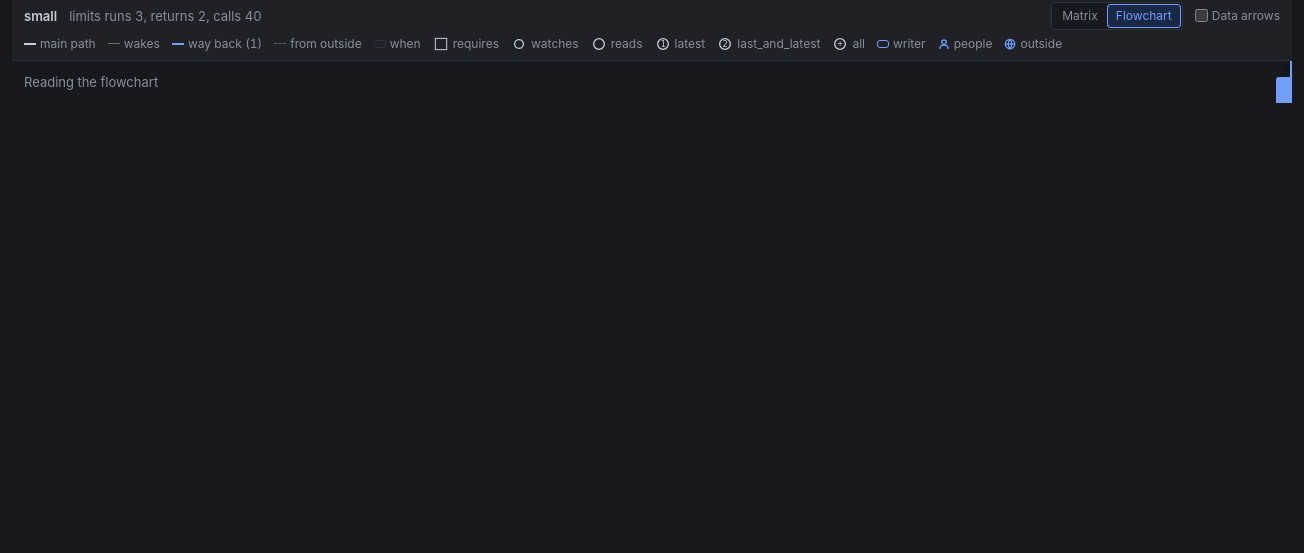
the chart › shows one row for each datum, the cells across in the order of the walk, and what each cell does with each by its keys
Click the button "Matrix" at (1080, 16), box [1054,5,1106,27]
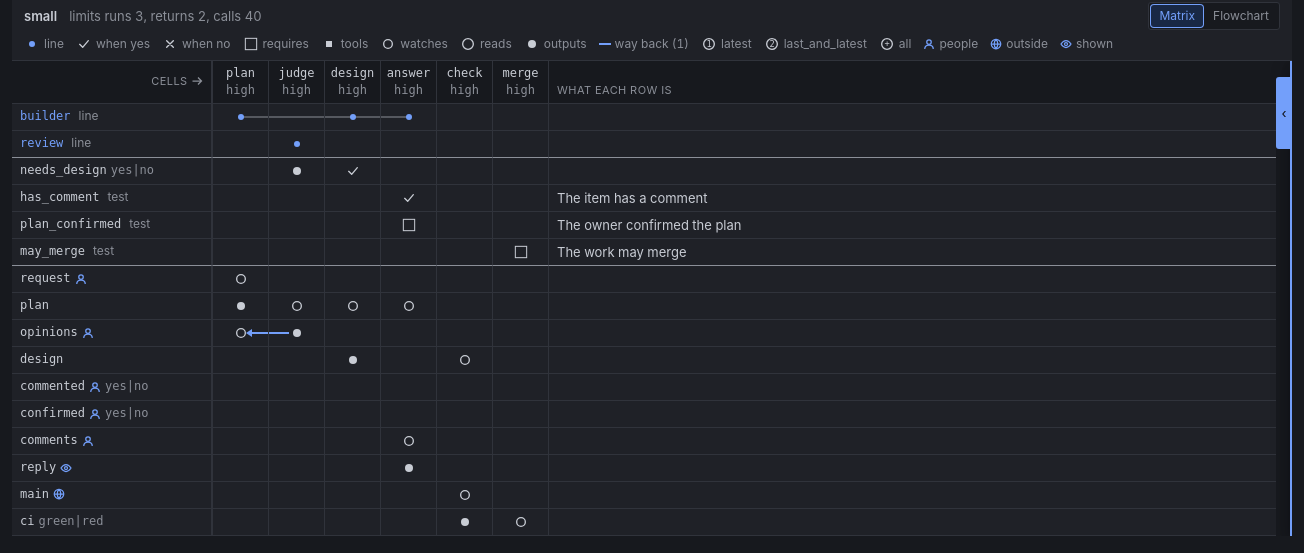
Expected: the list with class "legend" shows "way back (1)", [24,36,1113,52]
Expected: the column heading with class "corner" reads "Cells", [151,74,191,88]
Expected: the 1st text with class "block-values" reads "yes|no", [111,163,154,177]
